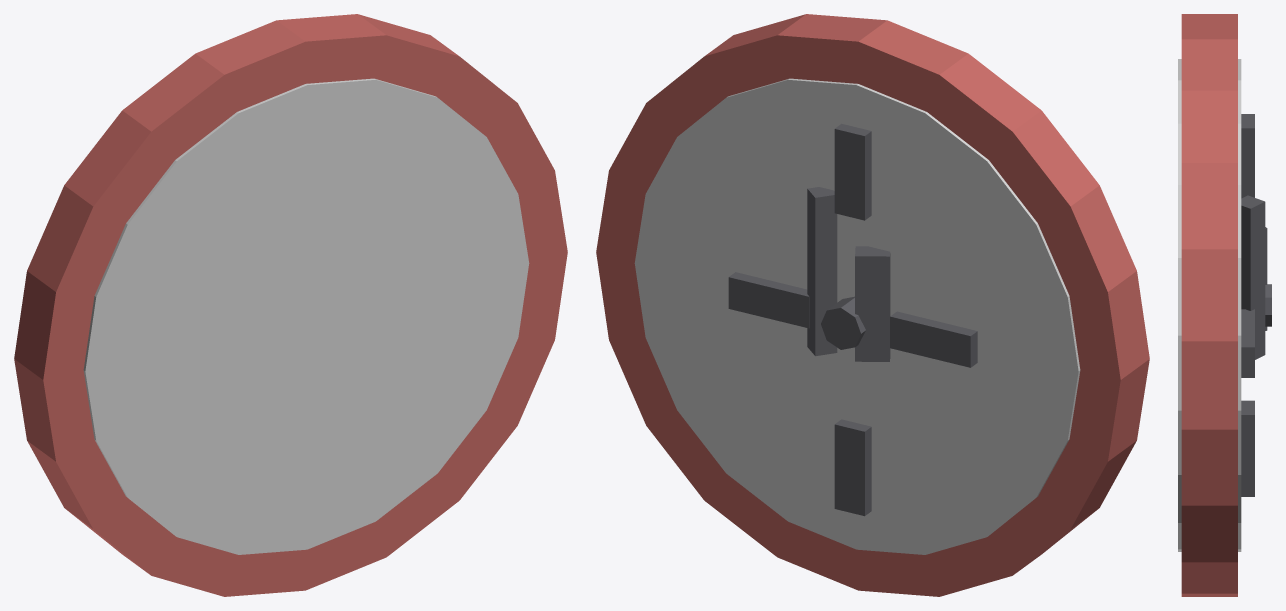
File: parede_relogio_cozinha.glb
3 renders of one model, left to right at view 1: azimuth 30°, elevation 25°; view 2: azimuth 150°, elevation 25°; view 3: azimuth 270°, elevation 25°, orthographic. The views are drawn at different scales.
Visible parts, largest first — view 1: PAREDE_RELOGIO_COZINHA_v01; view 2: PAREDE_RELOGIO_COZINHA_v01; view 3: PAREDE_RELOGIO_COZINHA_v01.
Boxes of the visible parts, bbox=[...] form: PAREDE_RELOGIO_COZINHA_v01: bbox=[14, 14, 567, 596]; PAREDE_RELOGIO_COZINHA_v01: bbox=[596, 14, 1149, 596]; PAREDE_RELOGIO_COZINHA_v01: bbox=[1178, 14, 1271, 596].
Size of the model in its own units: 0.52 by 0.52 by 0.083.
